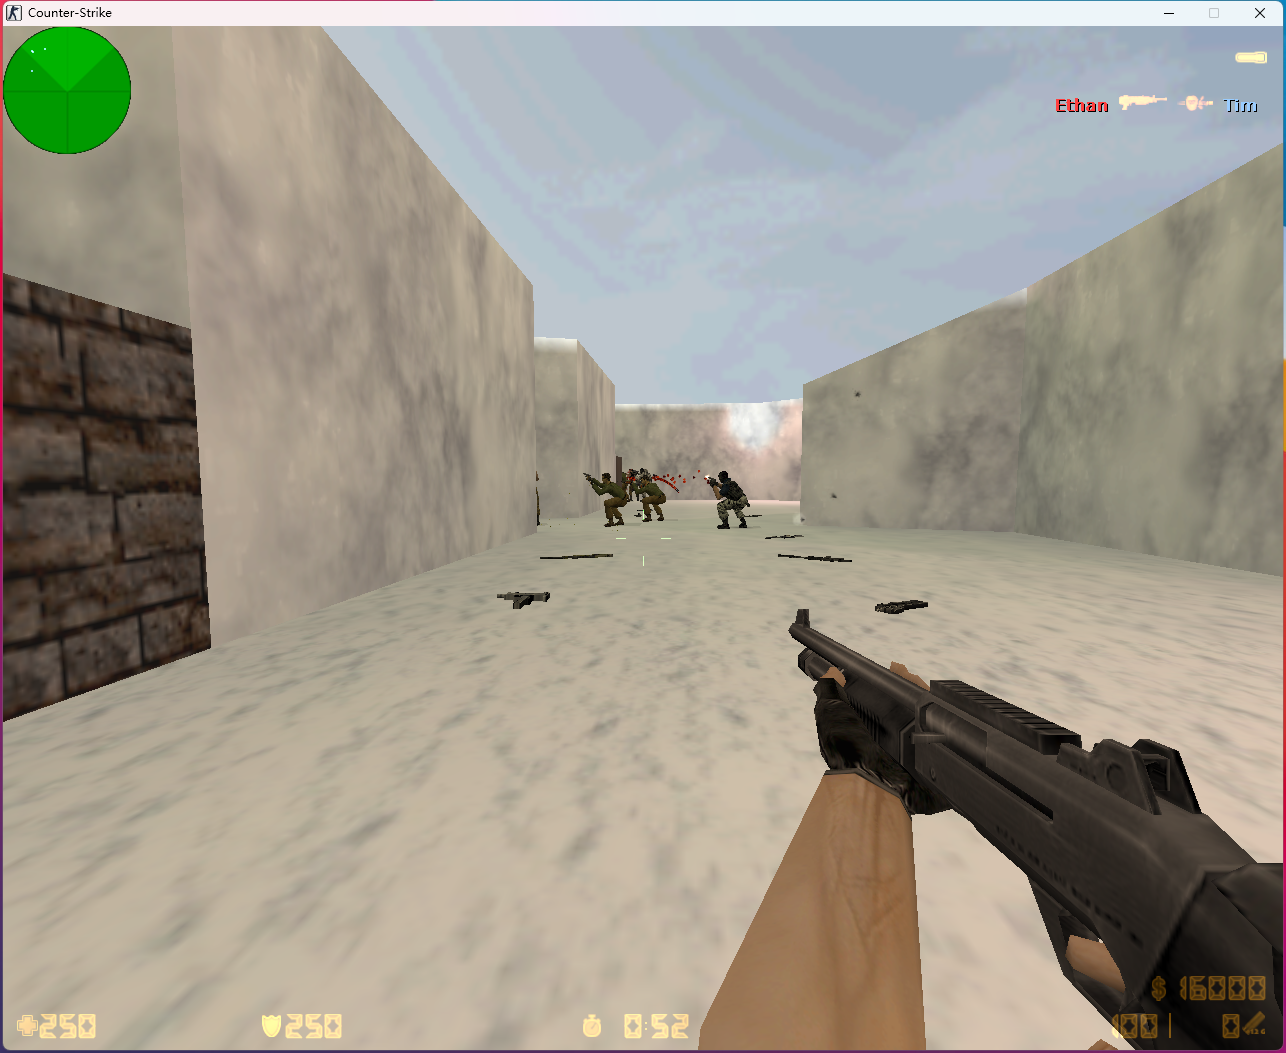T: (581, 473, 628, 526), (707, 471, 747, 531), (633, 477, 666, 522)
weapon: (872, 596, 930, 616), (500, 590, 555, 611), (542, 551, 613, 562), (777, 553, 850, 563), (760, 529, 803, 541)
